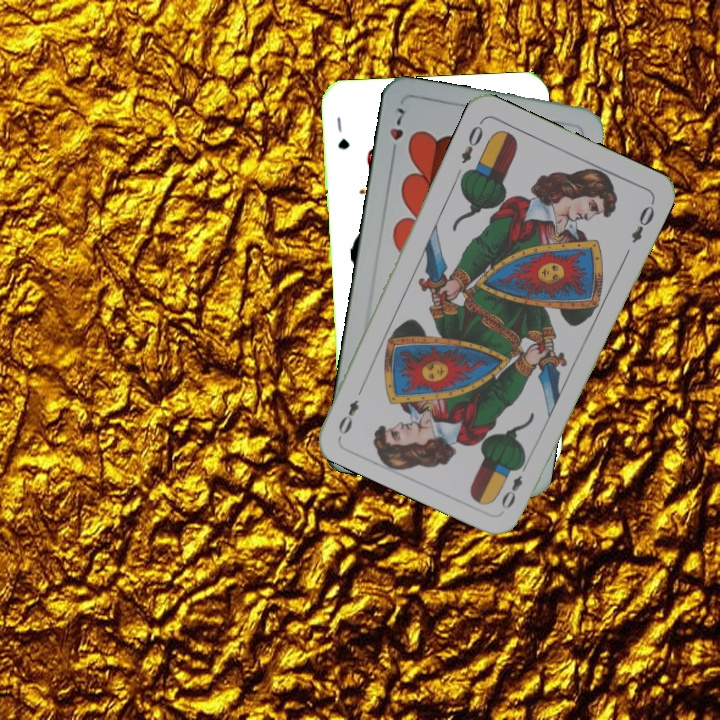EO: (497, 457, 531, 512), (457, 117, 486, 166)
GU: (332, 113, 352, 152)
H7: (386, 103, 408, 160)
